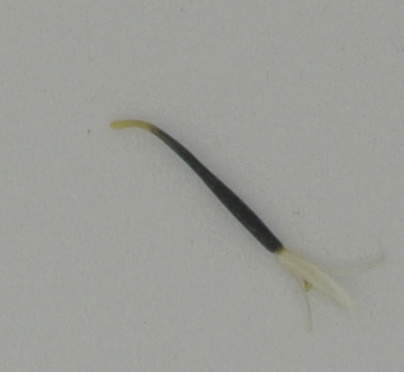เมล็ดดีเรียวยาว: (108, 118, 389, 331)
